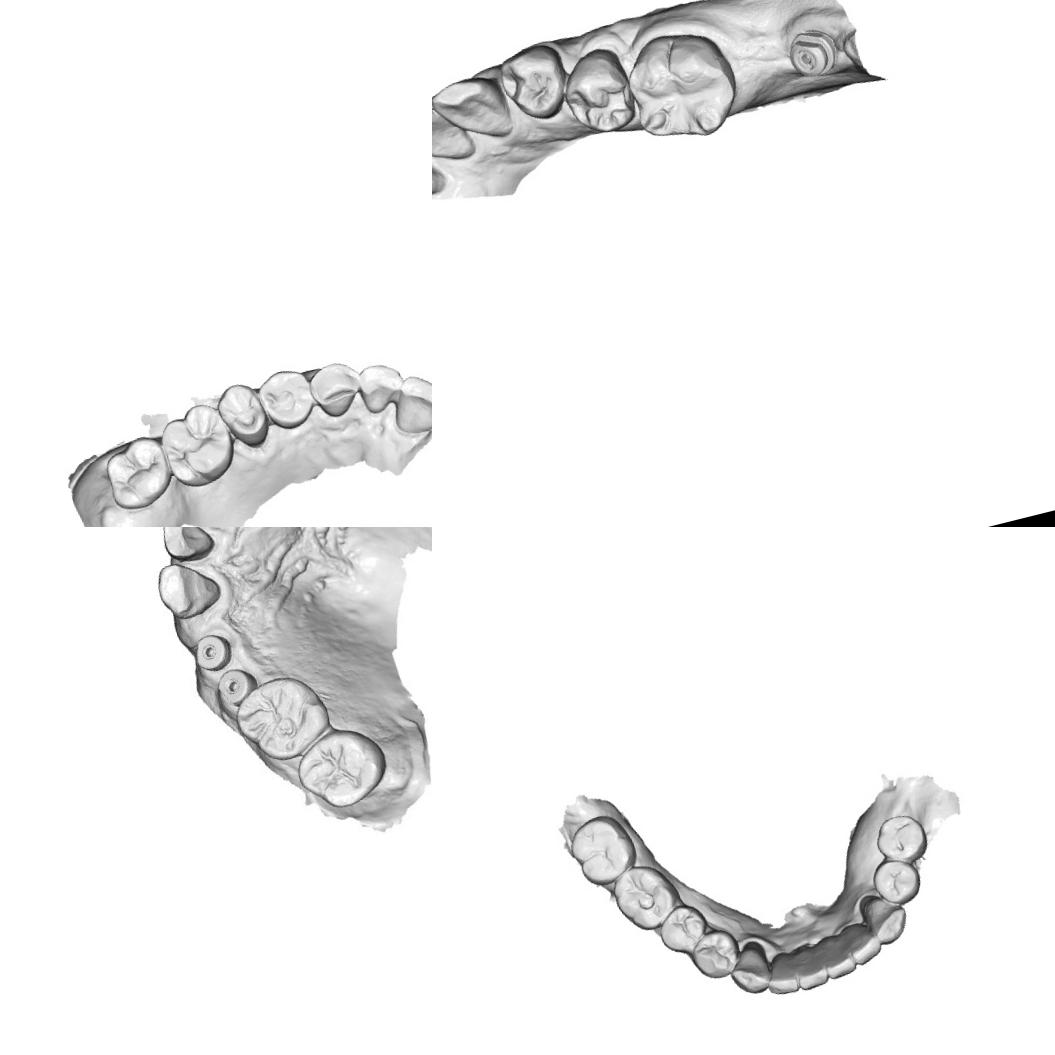canine: (432, 66, 514, 154), (148, 550, 225, 626), (302, 354, 370, 423), (722, 938, 776, 1000), (858, 888, 912, 948)
implant: (188, 626, 234, 672), (212, 662, 256, 706)
implant_minus: (784, 23, 840, 82)
incisor: (383, 363, 432, 440), (352, 356, 410, 419), (432, 96, 473, 175), (788, 940, 830, 992), (759, 948, 800, 999), (818, 930, 858, 980), (158, 527, 215, 562), (844, 924, 884, 967)
molar: (615, 19, 750, 152), (287, 721, 392, 820), (229, 670, 330, 766), (152, 396, 245, 494), (98, 430, 178, 515), (606, 856, 686, 937), (563, 808, 641, 891)
premolar: (554, 40, 645, 144), (491, 38, 573, 130), (210, 376, 275, 456), (251, 363, 319, 436), (653, 899, 713, 958), (685, 924, 745, 983), (867, 850, 926, 910), (870, 809, 932, 866)
